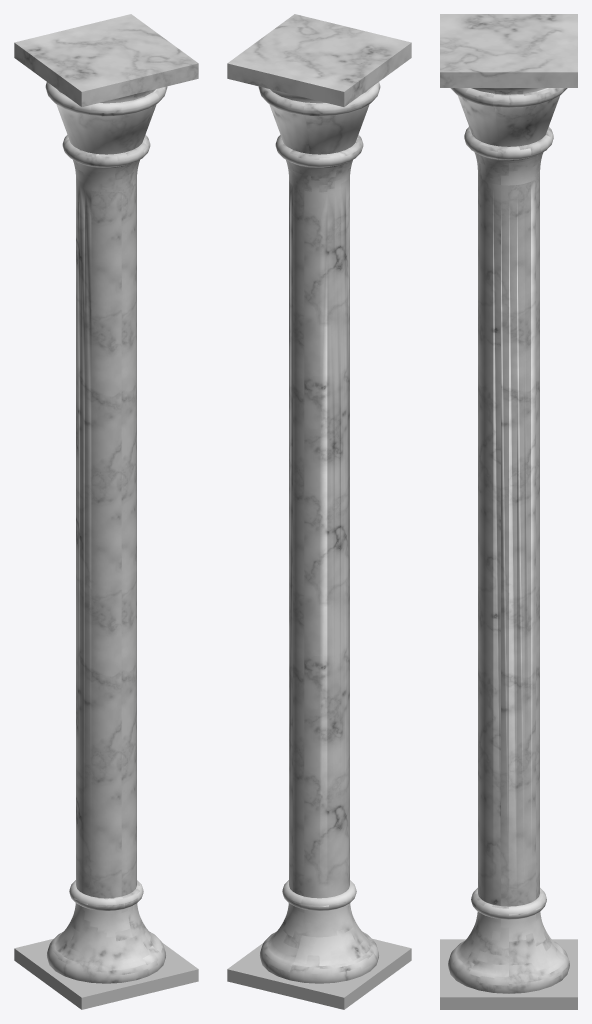
Rendered from CJPTNiceColumn.obj.
The picture shows the model from 3 angles, left to right: view 1: azimuth 30°, elevation 25°; view 2: azimuth 150°, elevation 25°; view 3: azimuth 270°, elevation 25°; orthographic projection. The views are drawn at different scales.
Visible parts, largest first — view 1: SketchUp.002; view 2: SketchUp.002; view 3: SketchUp.002.
Part boxes in pixels (x1,y1,x2,y2): SketchUp.002: [14, 14, 198, 1009]; SketchUp.002: [227, 14, 411, 1009]; SketchUp.002: [440, 14, 577, 1009].
Bounding box in the file's own units: 0.4 × 3 × 0.4.
